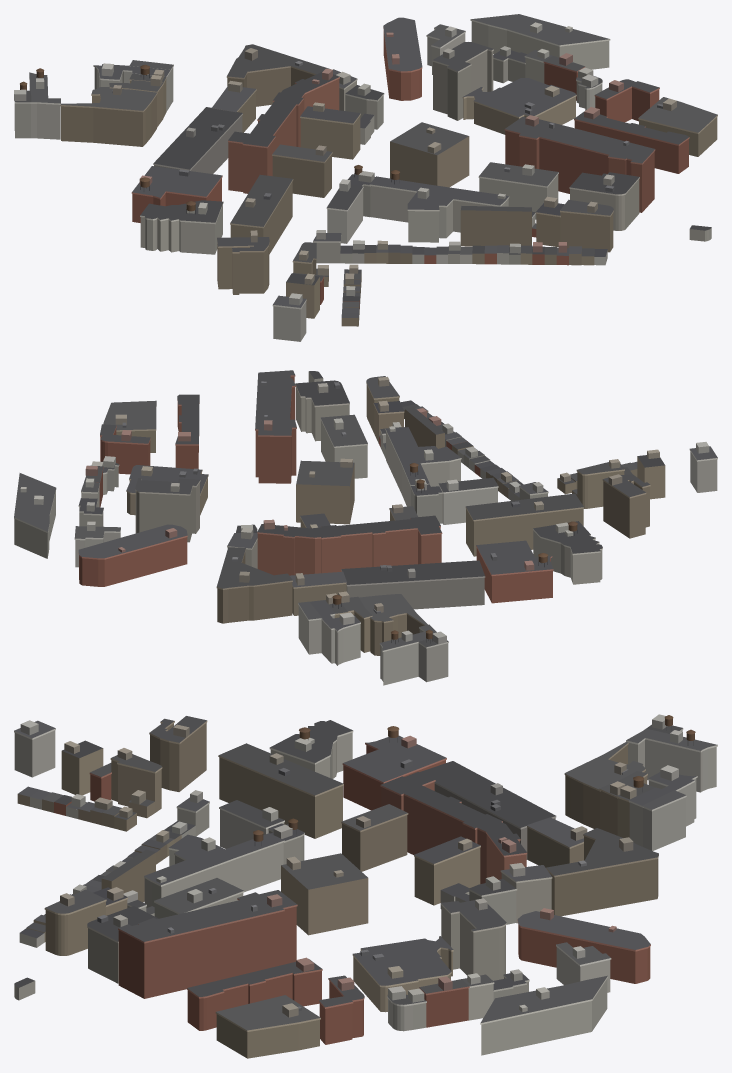
File: 9_-4.bld.glb
3 views of the same model, one above another, from view 1: azimuth 30°, elevation 25°; view 2: azimuth 150°, elevation 25°; view 3: azimuth 270°, elevation 25° (orthographic). The views are drawn at different scales.
Parts seen in each view (by area): view 1: 9_-4; view 2: 9_-4; view 3: 9_-4.
Boxes of the visible parts, x1,y1,x2,y2 form: 9_-4: [14, 14, 717, 341]; 9_-4: [14, 370, 717, 685]; 9_-4: [14, 714, 717, 1058].
Bounding box in the file's own units: 280 × 29.21 × 273.
